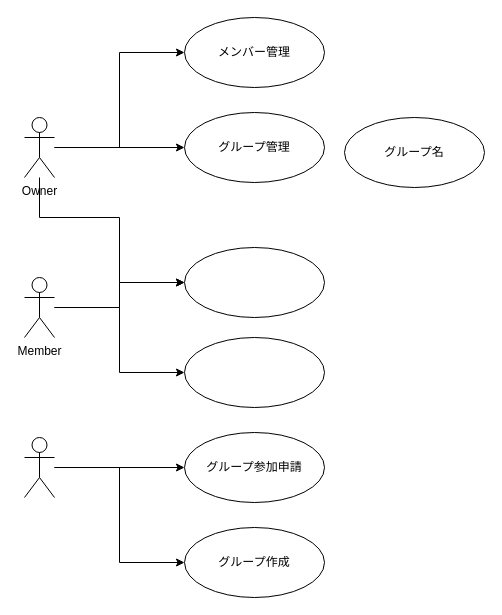
Some shapes in this 502 by 615 pixel diagram are drawn without their labels. Here are the shapes that lost their labels. From the top down, the box of each, then its label:
(184, 246, 324, 318): グループ参照
(184, 336, 324, 408): グループ退会
(24, 436, 54, 498): single
